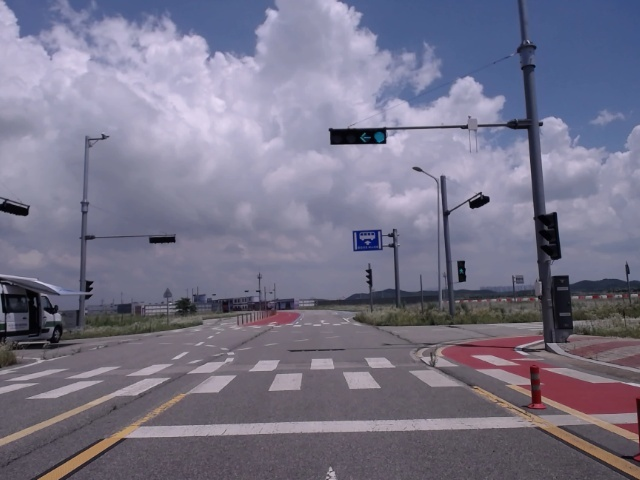all_green_4: (328, 129, 386, 144)
